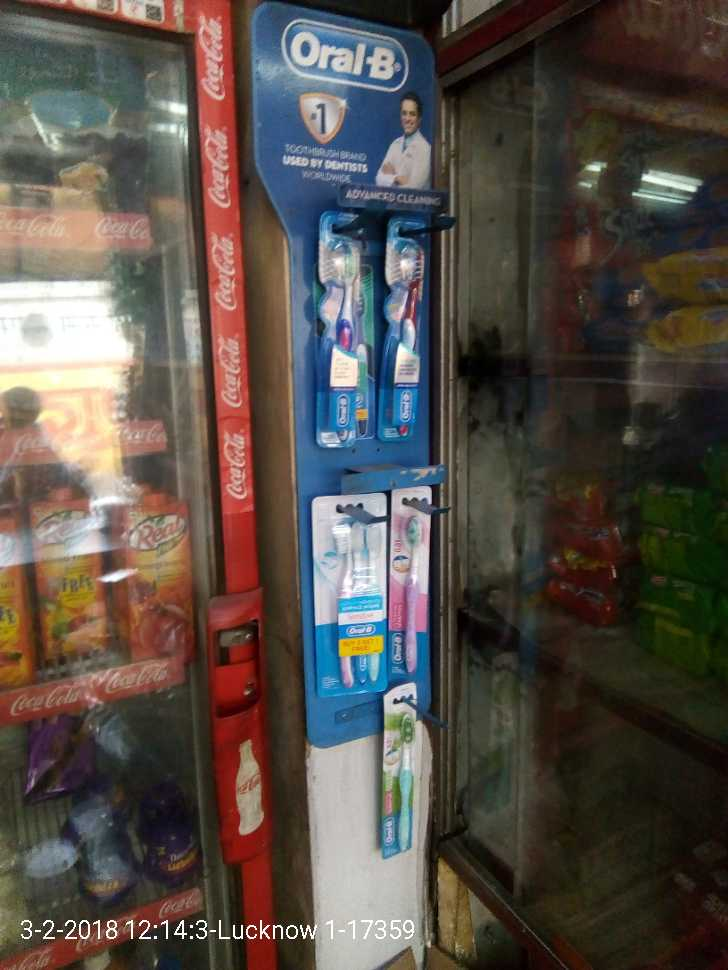oralb: (309, 494, 391, 698), (310, 208, 370, 450), (378, 211, 427, 444), (394, 490, 434, 682), (377, 696, 420, 865)
